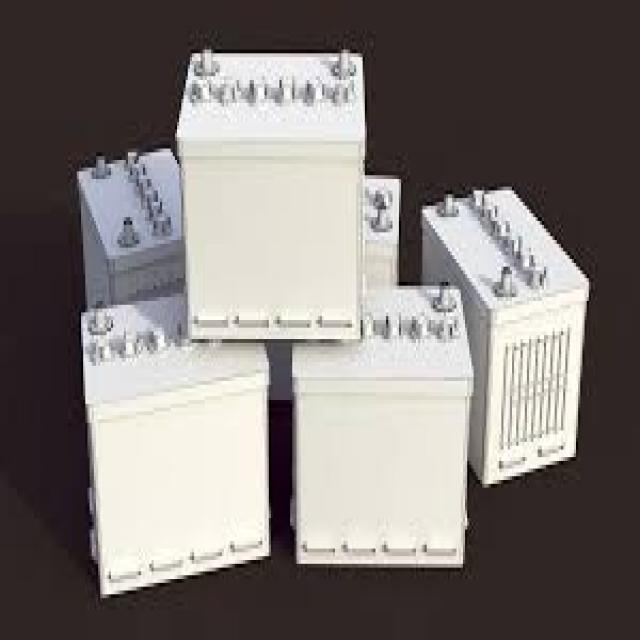hazard: (83, 32, 600, 593)
